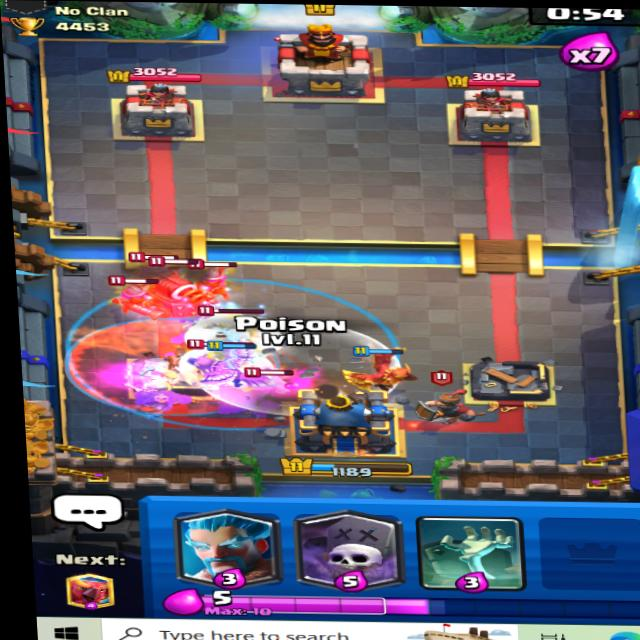musketeer: (189, 256, 236, 298), (126, 251, 168, 291), (105, 277, 149, 312)
royal-giant: (190, 309, 296, 353)
royal-recruits: (417, 382, 471, 424)
sparky: (141, 257, 220, 318)
